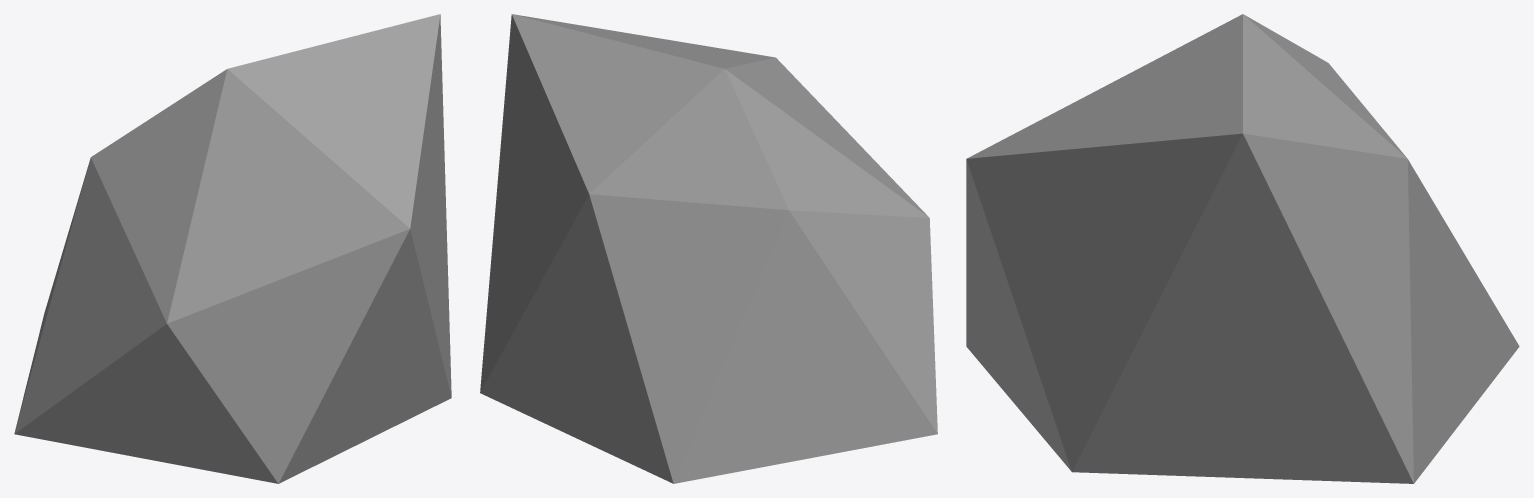
Rendered from Rock3.fbx.
3 renders of one model, left to right at view 1: azimuth 30°, elevation 25°; view 2: azimuth 150°, elevation 25°; view 3: azimuth 270°, elevation 25°, orthographic. The views are drawn at different scales.
Visible parts, largest first — view 1: Icosphere.001; view 2: Icosphere.001; view 3: Icosphere.001.
Part boxes in pixels (box(x1,y1,x2,y2)): Icosphere.001: box(14, 14, 451, 483); Icosphere.001: box(480, 14, 937, 483); Icosphere.001: box(966, 14, 1519, 483).
Size of the model in its own units: 179 by 131 by 170.
